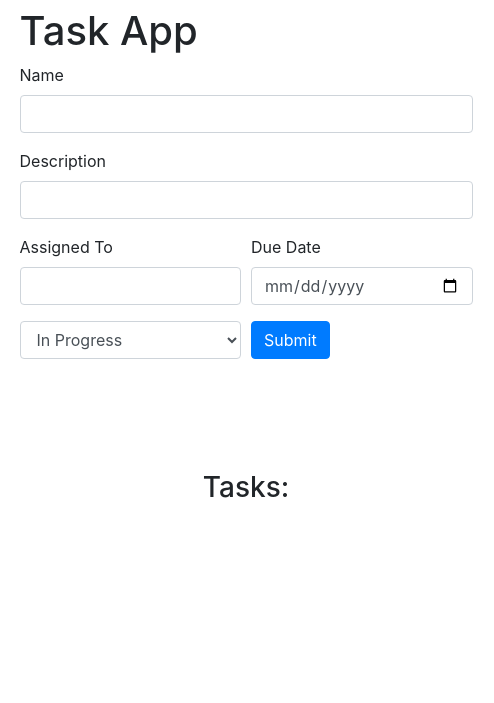
Task App › Render the tasks › add a task with the form, and render it to the page
In the field labelled "Name": (246, 114) [20, 95, 472, 133], type "Trash Day"
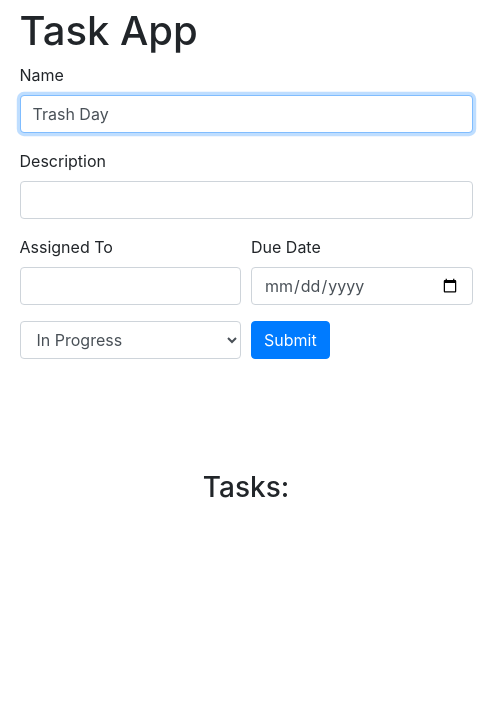
In the field labelled "Description": (246, 200) [20, 181, 472, 219], type "Mate, you need to take out the bins"
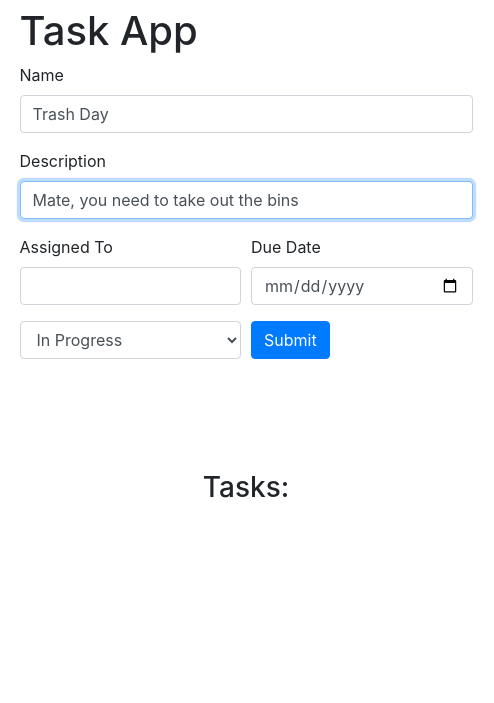
In the field labelled "Assigned To": (130, 286) [20, 267, 241, 305], type "Aaron Byrom"
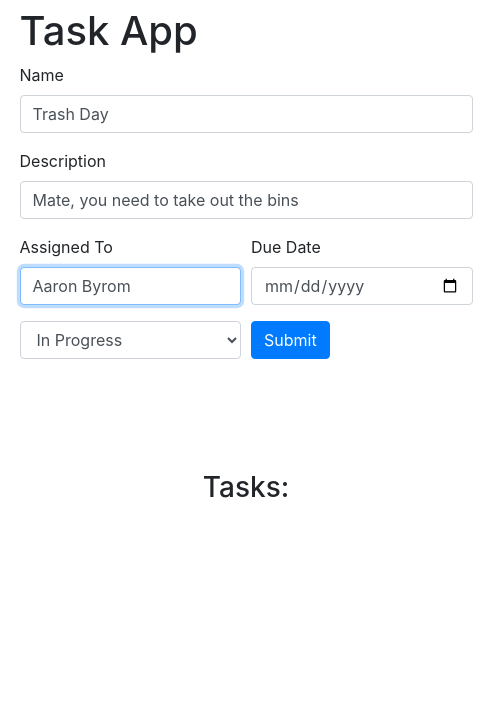
In the date field labelled "Due Date": (362, 286) [251, 267, 472, 305], type "2021-01-01"
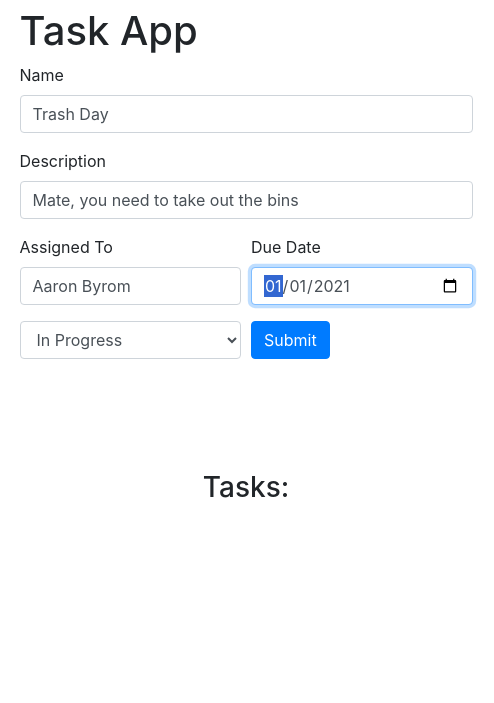
Click the button "Submit": (290, 340) [251, 321, 330, 359]
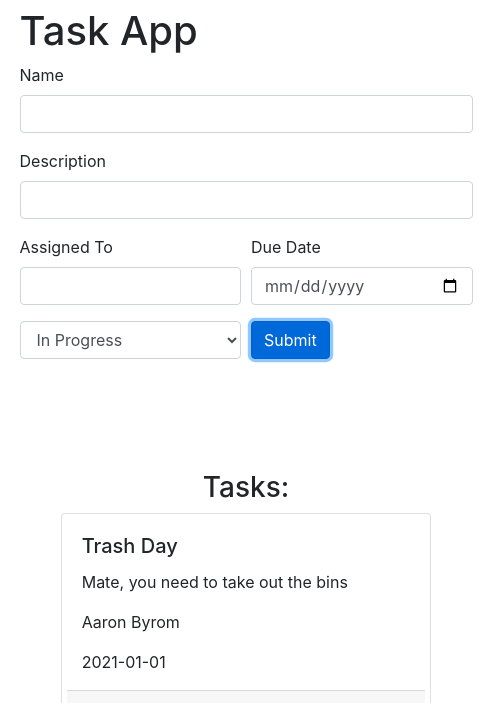
Expected: the heading "Trash Day" is shown, [82, 534, 178, 558]
Expected: the text "Mate, you need to take out the bins" is shown, [82, 572, 348, 592]
